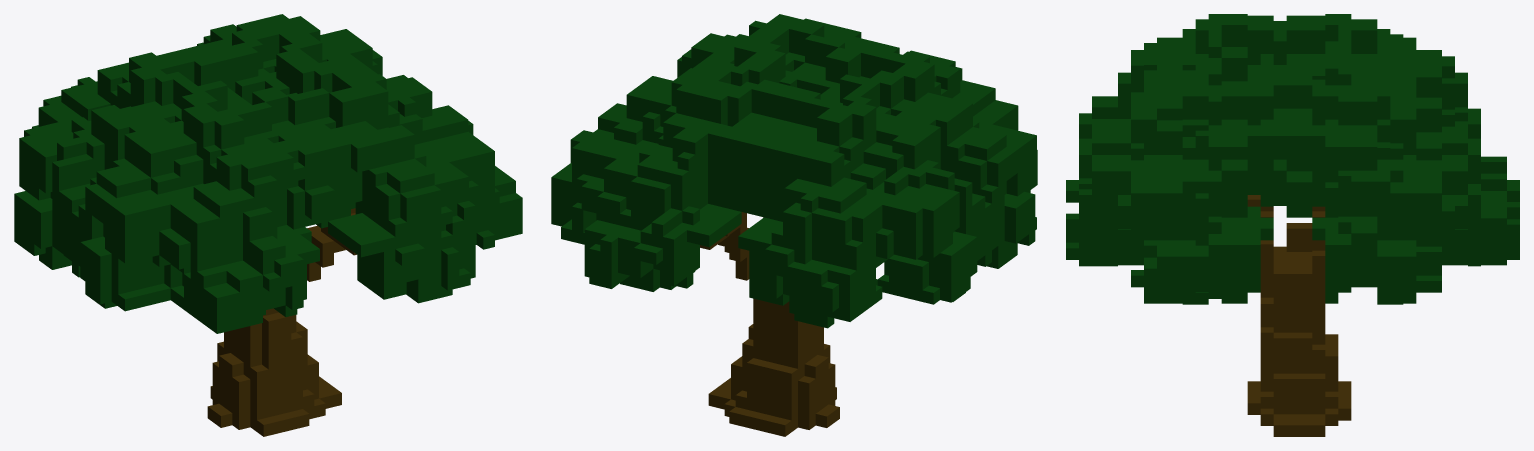
The model's file is TreeLOD-1-Tree2_1.obj.
The picture shows the model from 3 angles, left to right: view 1: azimuth 30°, elevation 25°; view 2: azimuth 150°, elevation 25°; view 3: azimuth 270°, elevation 25°; orthographic projection. The views are drawn at different scales.
Parts seen in each view (by area): view 1: Tree2_1; view 2: Tree2_1; view 3: Tree2_1.
Boxes of the visible parts, x1,y1,x2,y2 form: Tree2_1: (14,14,522,436); Tree2_1: (551,14,1037,436); Tree2_1: (1066,14,1519,436).
Bounding box in the file's own units: 3.4 × 2.9 × 3.5.
1 material, 1 textured.
